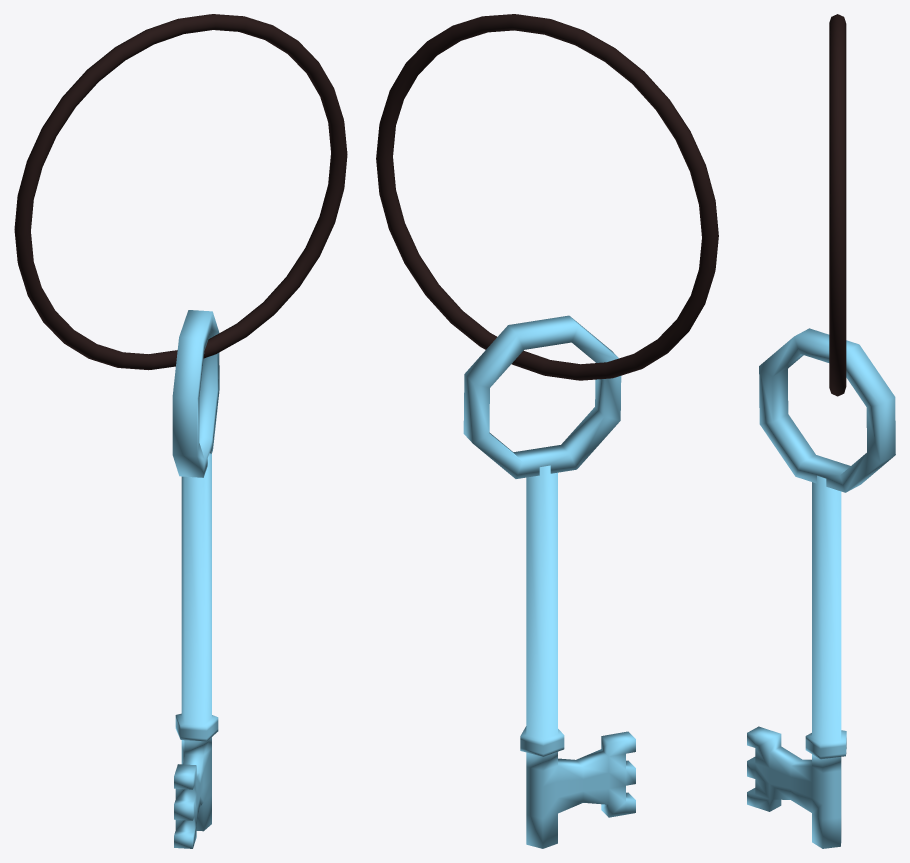
The model's file is RoomKey.glb.
The picture shows the model from 3 angles, left to right: view 1: azimuth 30°, elevation 25°; view 2: azimuth 150°, elevation 25°; view 3: azimuth 270°, elevation 25°; orthographic projection. The views are drawn at different scales.
Visible parts, largest first — view 1: Room Key; view 2: Room Key; view 3: Room Key.
Part boxes in pixels (x1=…): Room Key: x1=14, y1=14, x2=347, y2=848; Room Key: x1=376, y1=14, x2=718, y2=848; Room Key: x1=747, y1=14, x2=895, y2=848.
Size of the model in its own units: 0.1334 by 0.3098 by 0.0518.
